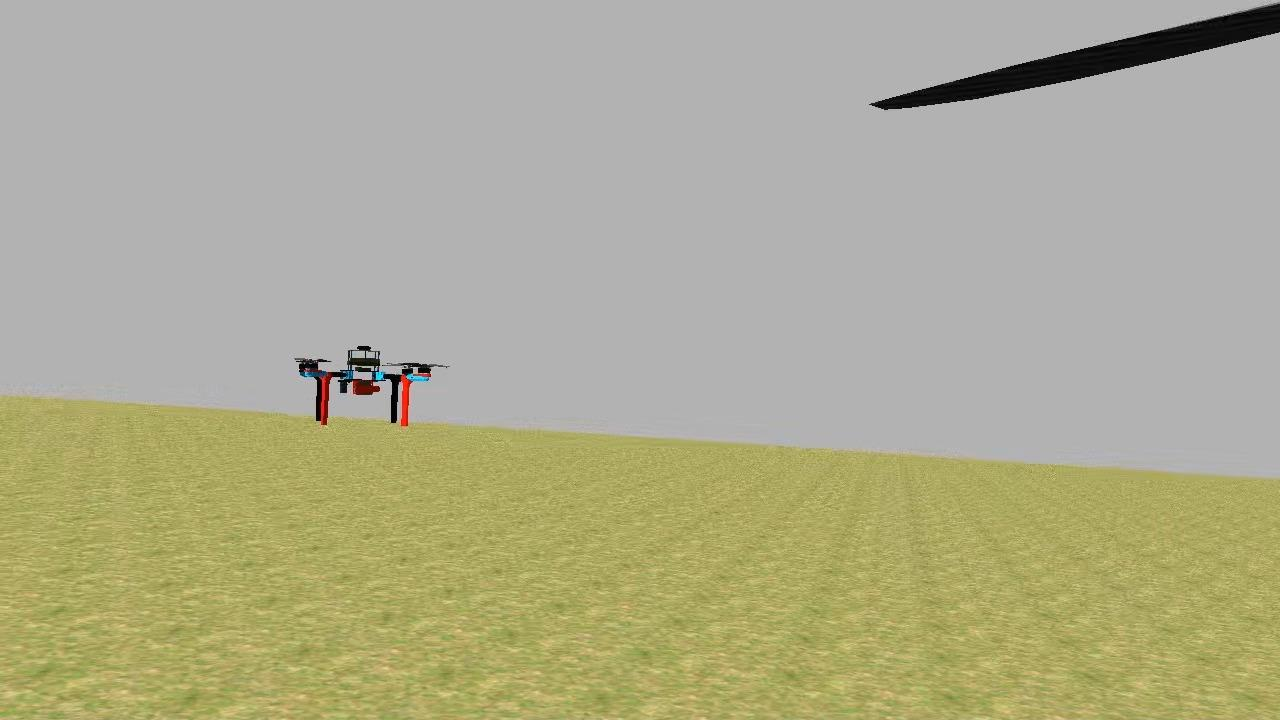UAV: (294, 342, 436, 430)
